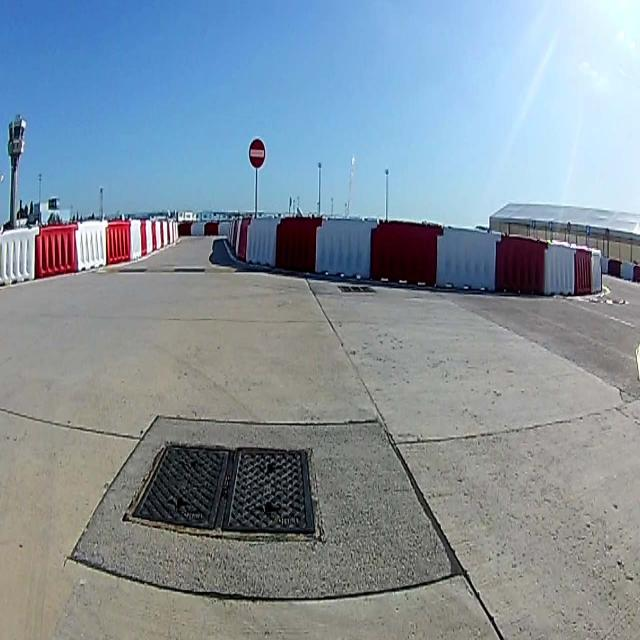girisyok: (248, 138, 266, 167)
